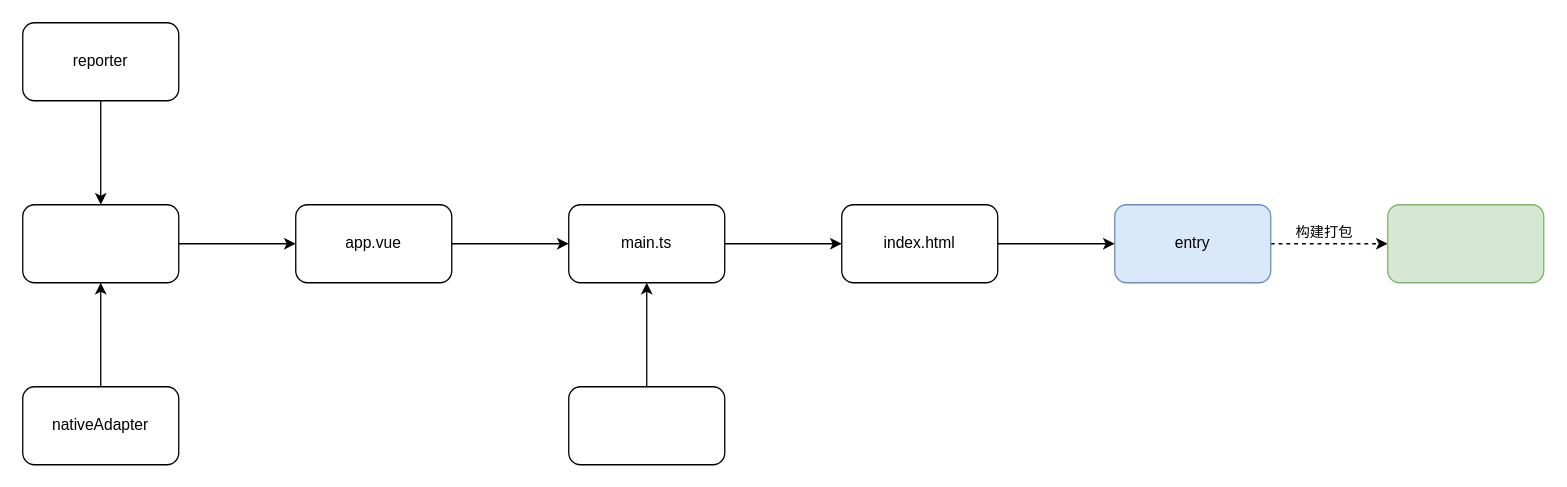
This 1567x487 diagram has some shape labels left out. The centre of each missing label's shape, as x and y in pixels:
"adMethod" belongs at point (100, 243).
"dist" belongs at point (1465, 243).
"index.less" belongs at point (646, 425).
